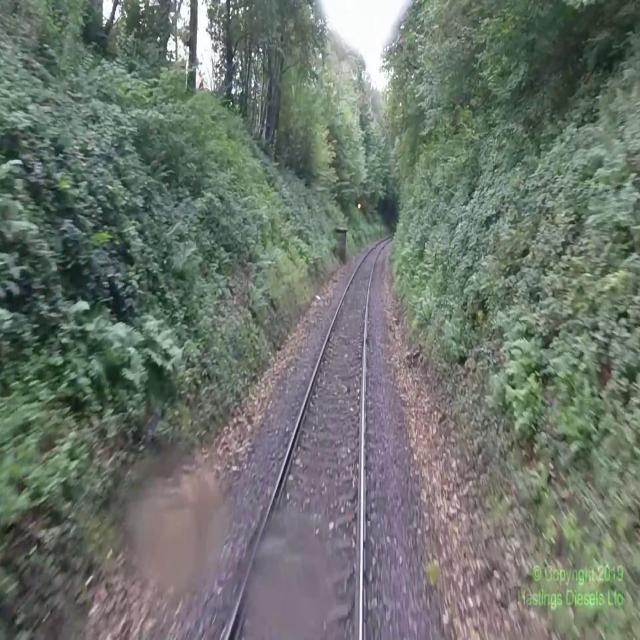rail-track: (229, 237, 391, 639)
